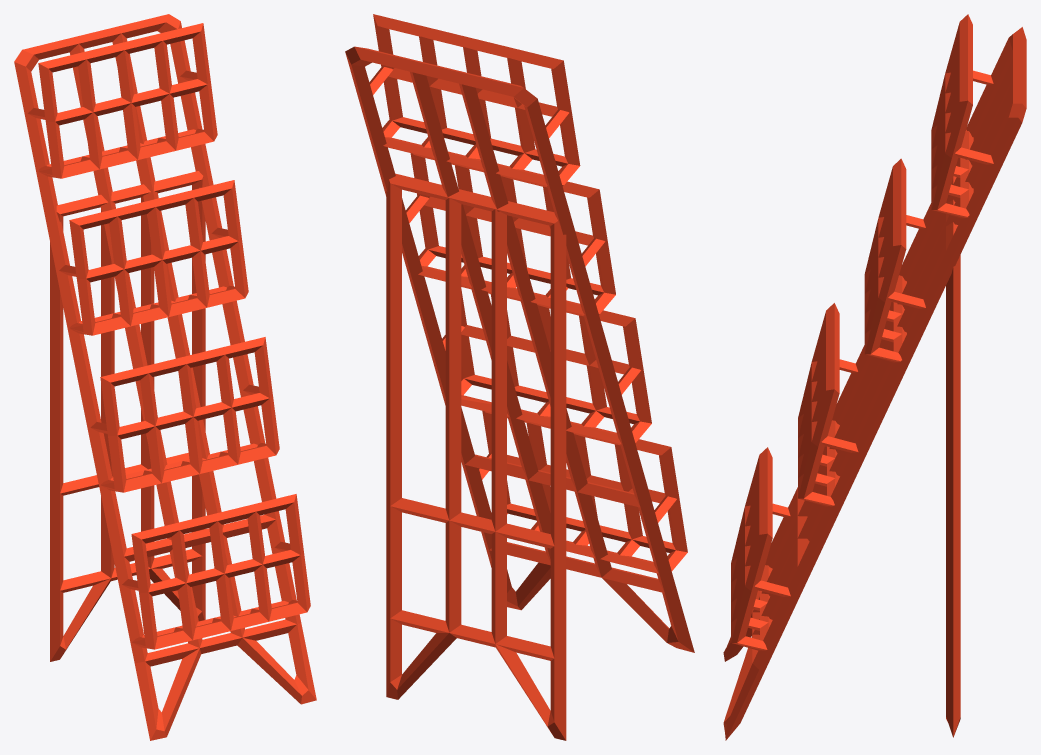
File: SM_Newspaper_Stand_Tall_A_City.fbx
The picture shows the model from 3 angles, left to right: view 1: azimuth 30°, elevation 25°; view 2: azimuth 150°, elevation 25°; view 3: azimuth 270°, elevation 25°; orthographic projection. The views are drawn at different scales.
Visible parts, largest first — view 1: SM_Newspaper_Stand_Tall_A_City; view 2: SM_Newspaper_Stand_Tall_A_City; view 3: SM_Newspaper_Stand_Tall_A_City.
Part boxes in pixels (left/top/right/bottom): SM_Newspaper_Stand_Tall_A_City: left=14, top=14, right=316, bottom=740; SM_Newspaper_Stand_Tall_A_City: left=345, top=14, right=694, bottom=740; SM_Newspaper_Stand_Tall_A_City: left=723, top=14, right=1026, bottom=740.
Size of the model in its own units: 0.3145 by 1.07 by 0.4604.
